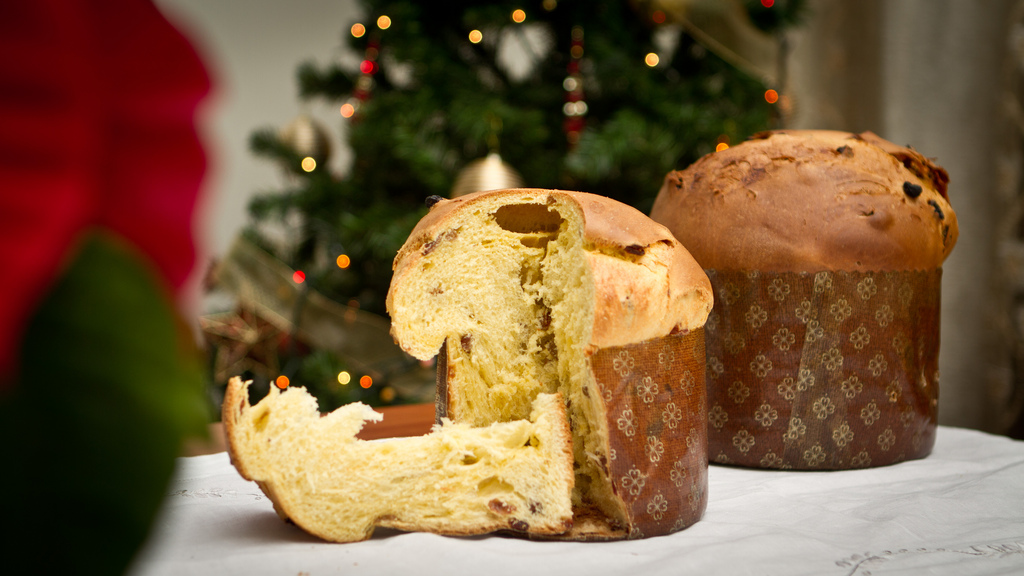slice of bread: (219, 371, 601, 554), (407, 205, 681, 379), (678, 139, 978, 284)
